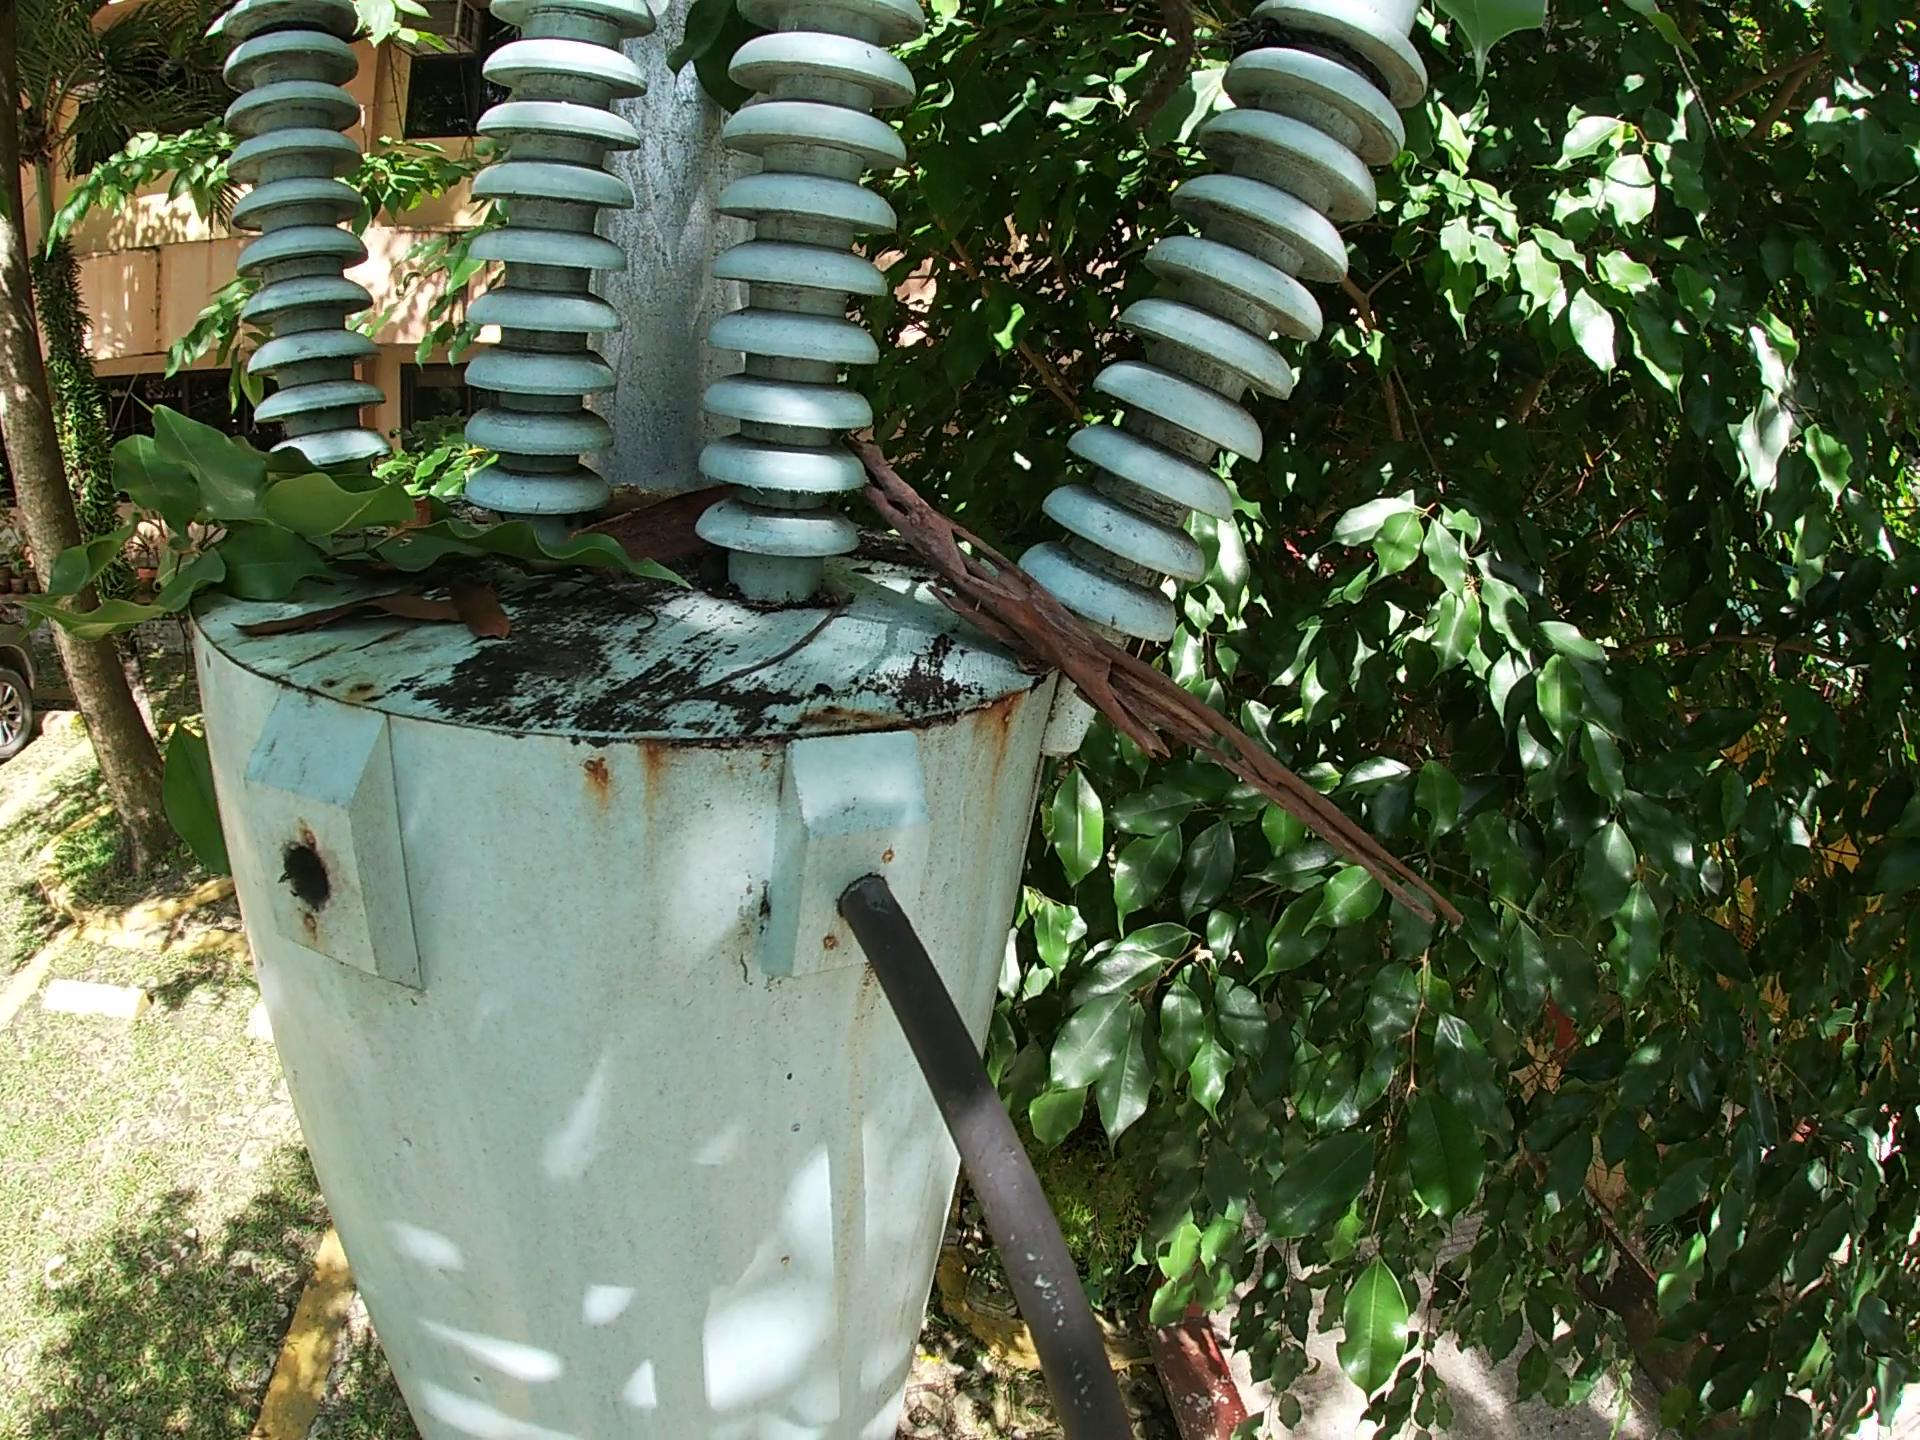branch with leaves: (9, 393, 717, 911)
leaf: (228, 579, 413, 646), (444, 570, 514, 647), (345, 596, 467, 629)
mahogany fruit: (567, 483, 750, 587)
tree branch: (842, 427, 1469, 945)
